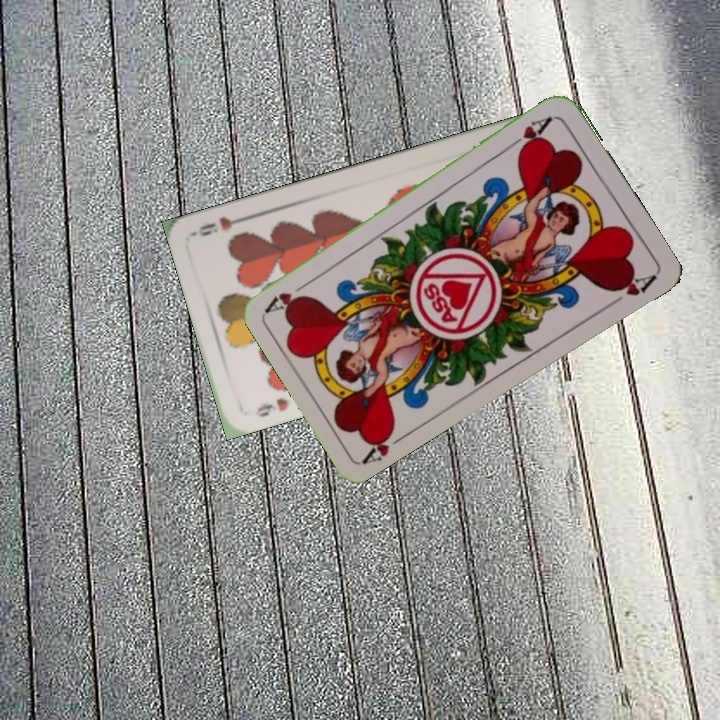H9: (251, 393, 291, 420)
HA: (359, 422, 413, 467), (505, 112, 558, 155)
